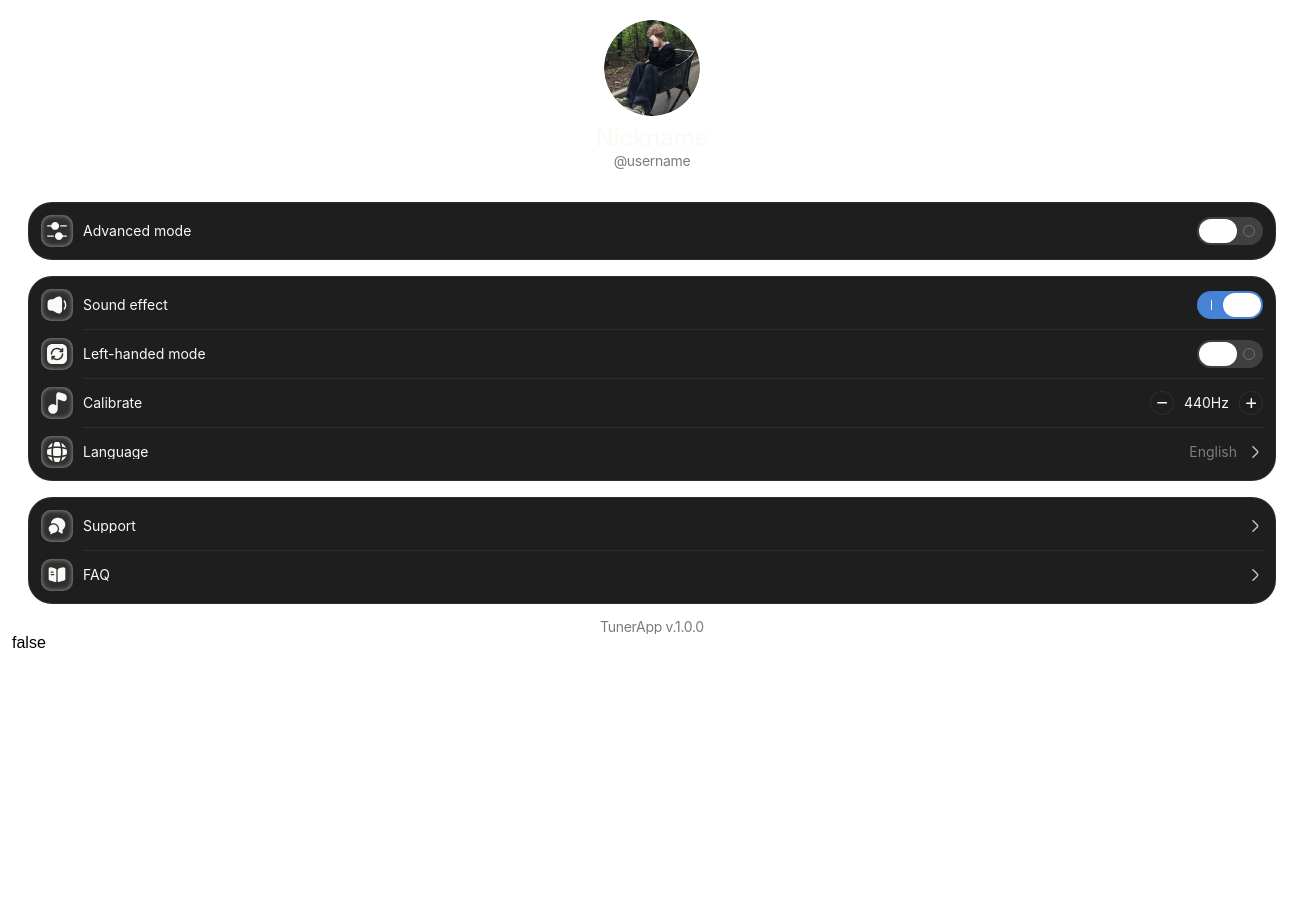
Scenario: SettingsScreen › toggles preferences.leftHanded via the Left-handed mode switch
Expected: the text with test id "left-handed" reads "false", [12,634,46,651]
What coordinates should you click on to do the following:
click the switch named "Left-handed mode"
I would click on:
 (1230, 354)
Its box is [1197,340,1263,368].
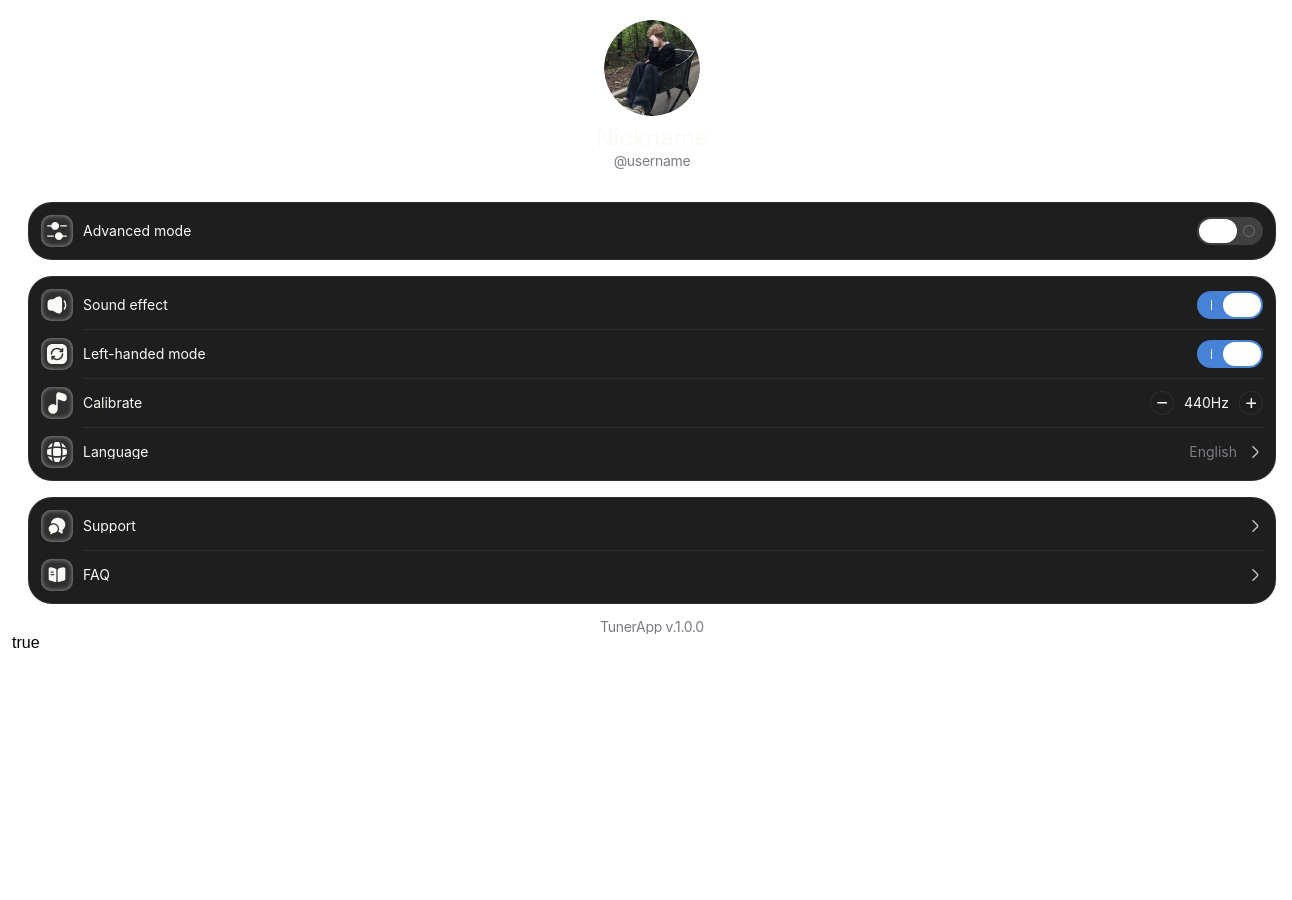
Expected: the text with test id "left-handed" reads "true", [12,634,40,651]
